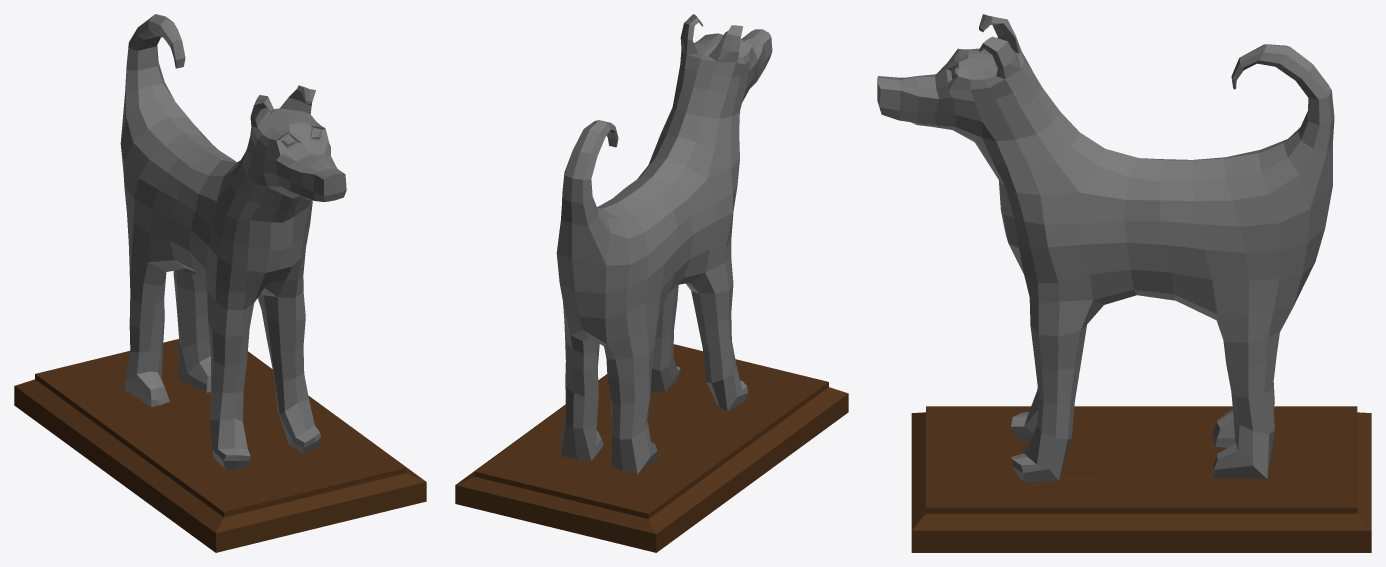
The model's file is Laika.fbx.
The picture shows the model from 3 angles, left to right: view 1: azimuth 30°, elevation 25°; view 2: azimuth 150°, elevation 25°; view 3: azimuth 270°, elevation 25°; orthographic projection. The views are drawn at different scales.
Parts seen in each view (by area): view 1: Cube; view 2: Cube; view 3: Cube.
Part boxes in pixels (left/top/right/bottom): Cube: left=14, top=14, right=426, bottom=552; Cube: left=455, top=14, right=848, bottom=552; Cube: left=877, top=14, right=1371, bottom=552.
Bounding box in the file's own units: 239 × 444 × 425.
